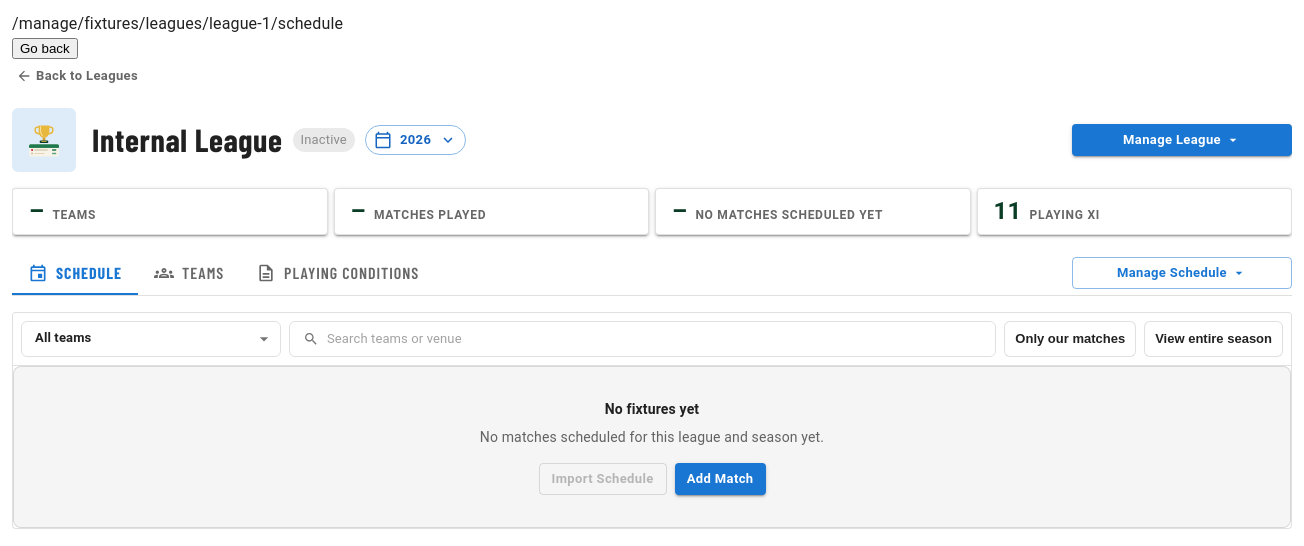
Test case: LeagueViewLayout › header › disables Import Schedule for an inactive league, with the reason
Click the button "Manage Schedule": click(1182, 273) [1072,257,1292,289]
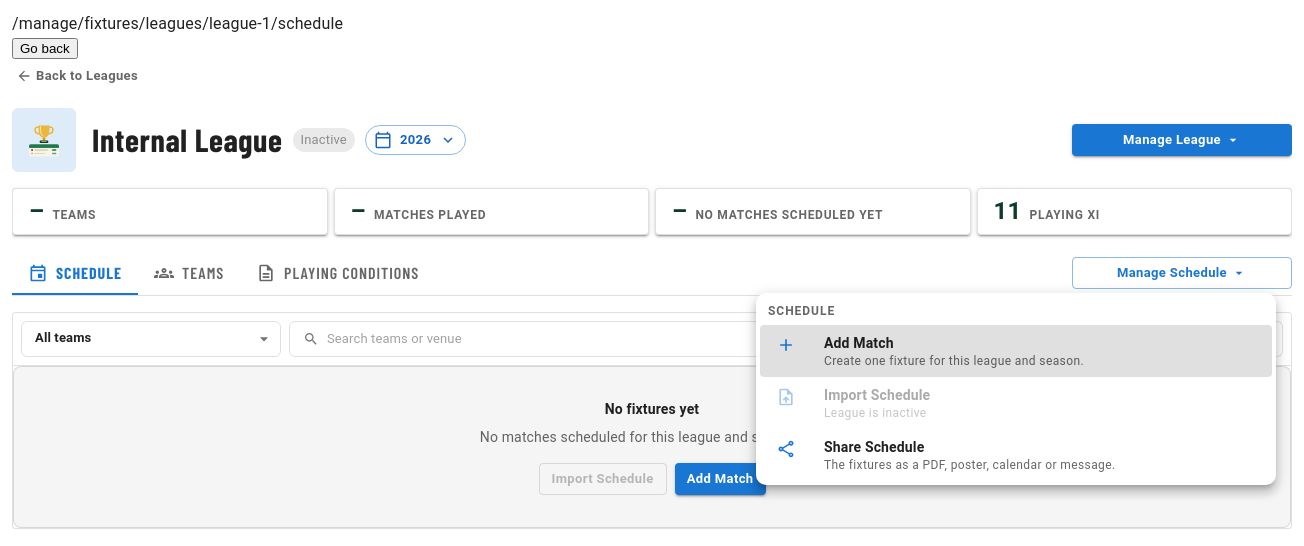
Expected: the menu item "Import Schedule League is inactive" is shown, [776,387,930,420]
